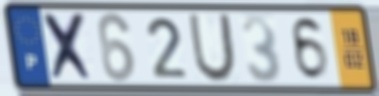2: (144, 16, 190, 81)
3: (240, 12, 283, 85)
6: (94, 10, 140, 85), (289, 15, 332, 83)
U: (186, 12, 238, 84)
X: (39, 11, 98, 84)
